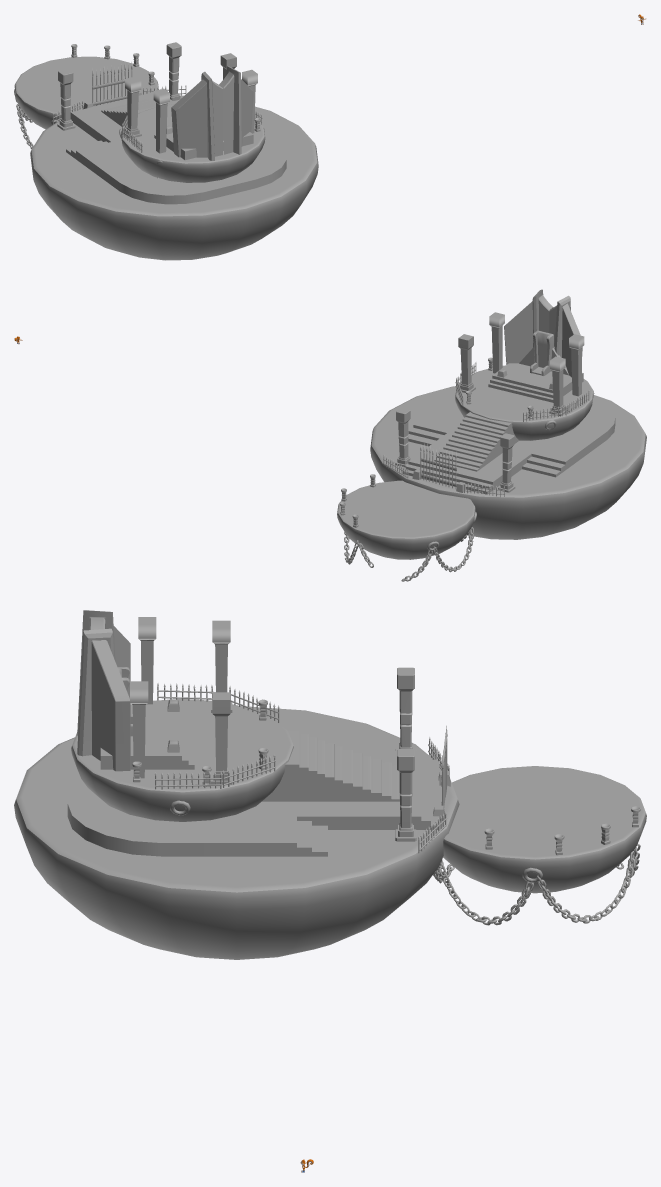
The model's file is All monk.fbx.
3 renders of one model, top to bottom at view 1: azimuth 30°, elevation 25°; view 2: azimuth 150°, elevation 25°; view 3: azimuth 270°, elevation 25°, orthographic. The views are drawn at different scales.
Parts seen in each view (by area): view 1: pSphere24, pCube411, pSphere23, pSphere25, pCube412, pCube379, pCube398, pCube397, pCube414, pCylinder176, pCube402, pCube410 (+2 smaller); view 2: pSphere24, pSphere23, pCube411, pSphere25, pCube410, pCube379, pCube383, pCube412, pCylinder176, pCube415, pCube398, pCube388 (+4 smaller); view 3: pSphere24, pSphere23, pCube411, pSphere25, pCube410, pCube379, pCube383, pCube388, pCube412, pCube417, pCube396, pCube414 (+2 smaller).
Part boxes in pixels (box(x1,y1,x2,y2)): pSphere24: box(30, 95, 318, 260); pCube411: box(66, 92, 286, 204); pSphere23: box(14, 56, 158, 129); pSphere25: box(121, 104, 265, 182); pCube412: box(171, 71, 222, 160); pCube379: box(219, 66, 253, 154); pCube398: box(123, 76, 141, 138); pCube397: box(153, 88, 169, 153); pCube414: box(57, 69, 75, 130); pCylinder176: box(92, 62, 132, 105); pCube402: box(166, 42, 181, 100); pCube410: box(101, 99, 177, 126); pSphere24: box(370, 386, 646, 539); pSphere23: box(337, 480, 475, 559); pCube411: box(402, 394, 615, 494); pSphere25: box(455, 365, 593, 440); pCube410: box(434, 412, 519, 471); pCube379: box(504, 289, 553, 364); pCube383: box(488, 363, 583, 402); pCube412: box(549, 295, 582, 377); pCylinder176: box(420, 443, 456, 488); pCube415: box(530, 330, 553, 375); pCube398: box(549, 356, 567, 416); pCube388: box(458, 334, 475, 392); pSphere24: box(14, 706, 459, 959); pSphere23: box(443, 766, 646, 893); pCube411: box(67, 724, 439, 856); pSphere25: box(71, 698, 293, 821); pCube410: box(262, 731, 399, 801); pCube379: box(77, 628, 130, 771); pCube383: box(100, 704, 194, 769); pCube388: box(211, 692, 232, 784); pCube412: box(77, 610, 130, 735); pCube417: box(395, 749, 416, 841); pCube396: box(130, 681, 148, 778); pCube414: box(395, 667, 416, 750).
Size of the model in its own units: 8228 by 2560 by 4737.
